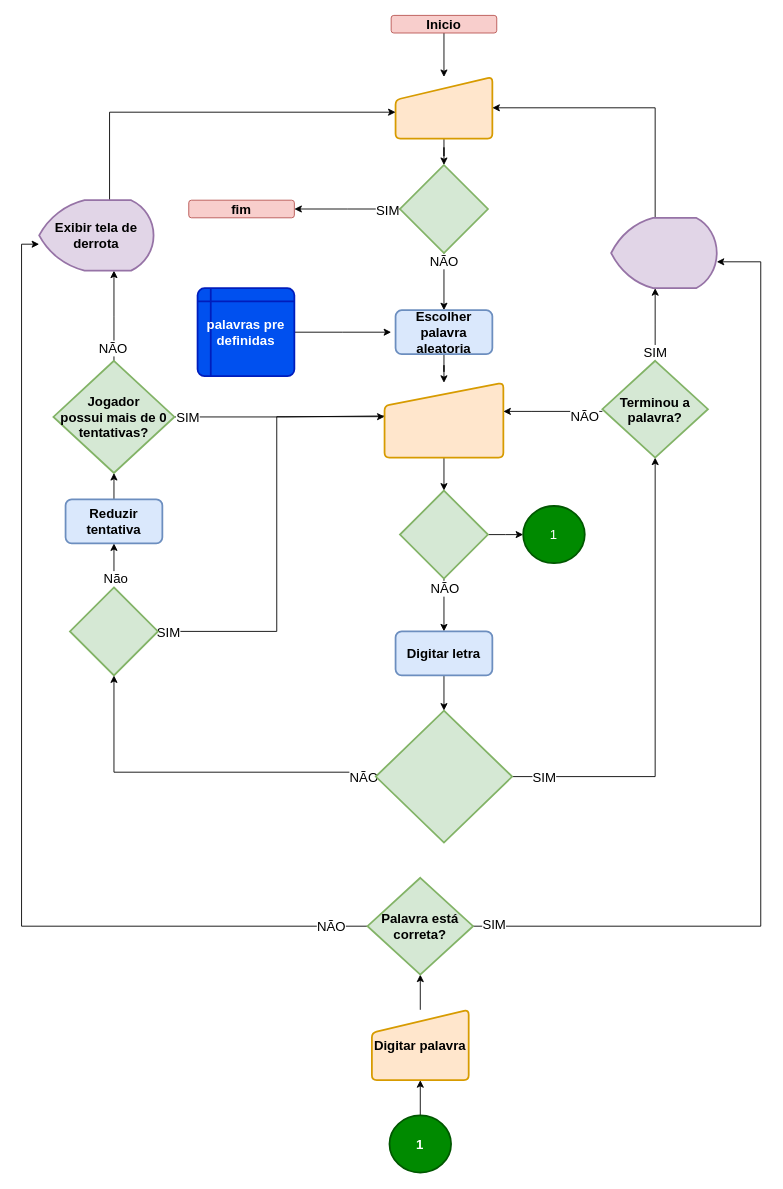
Some shapes in this 783 by 1189 pixel diagram are drawn without their labels. The shapes that lost their labels are listed below. From the top down, each one's centre as x and y in pixels, then its label:
(443,107): 1- jogar 0- sair
(443,208): Jogador digitou 0?
(663,252): Exibir tela de vitória
(443,419): Digitar letra 0-Digitar palavra
(443,534): Usuario digitou 0?
(113,631): Letra ja foi usada?
(443,776): Letra pertence à palavra escolhida?
